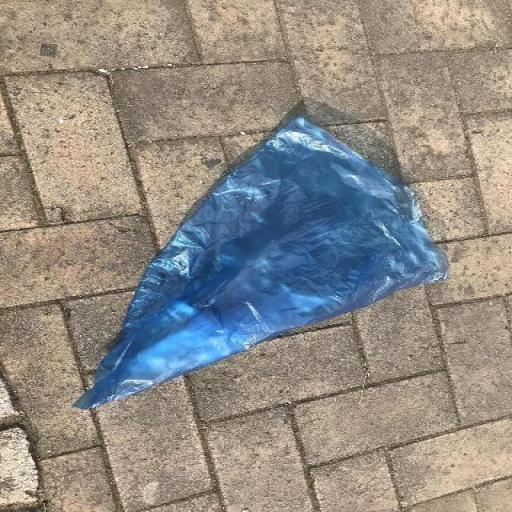plastic-bag: (69, 109, 459, 415)
